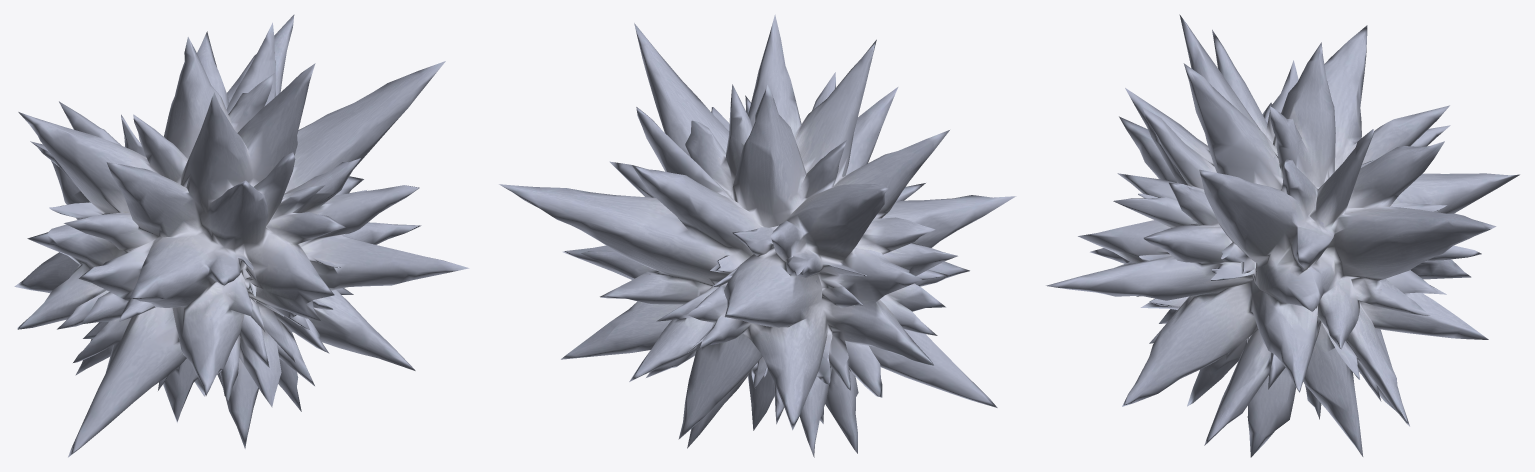
File: spark.glb
3 renders of one model, left to right at view 1: azimuth 30°, elevation 25°; view 2: azimuth 150°, elevation 25°; view 3: azimuth 270°, elevation 25°, orthographic. The views are drawn at different scales.
Visible parts, largest first — view 1: tripo_node_d43cb481-d90d-437c-9a3e-d8e7583c19ff; view 2: tripo_node_d43cb481-d90d-437c-9a3e-d8e7583c19ff; view 3: tripo_node_d43cb481-d90d-437c-9a3e-d8e7583c19ff.
Part boxes in pixels (x1,y1,x2,y2): tripo_node_d43cb481-d90d-437c-9a3e-d8e7583c19ff: (14, 14, 469, 457); tripo_node_d43cb481-d90d-437c-9a3e-d8e7583c19ff: (499, 14, 1016, 457); tripo_node_d43cb481-d90d-437c-9a3e-d8e7583c19ff: (1046, 14, 1519, 457).
Bounding box in the file's own units: 0.981 × 0.8986 × 0.9843.
Materials: 1 (1 with a texture image).
